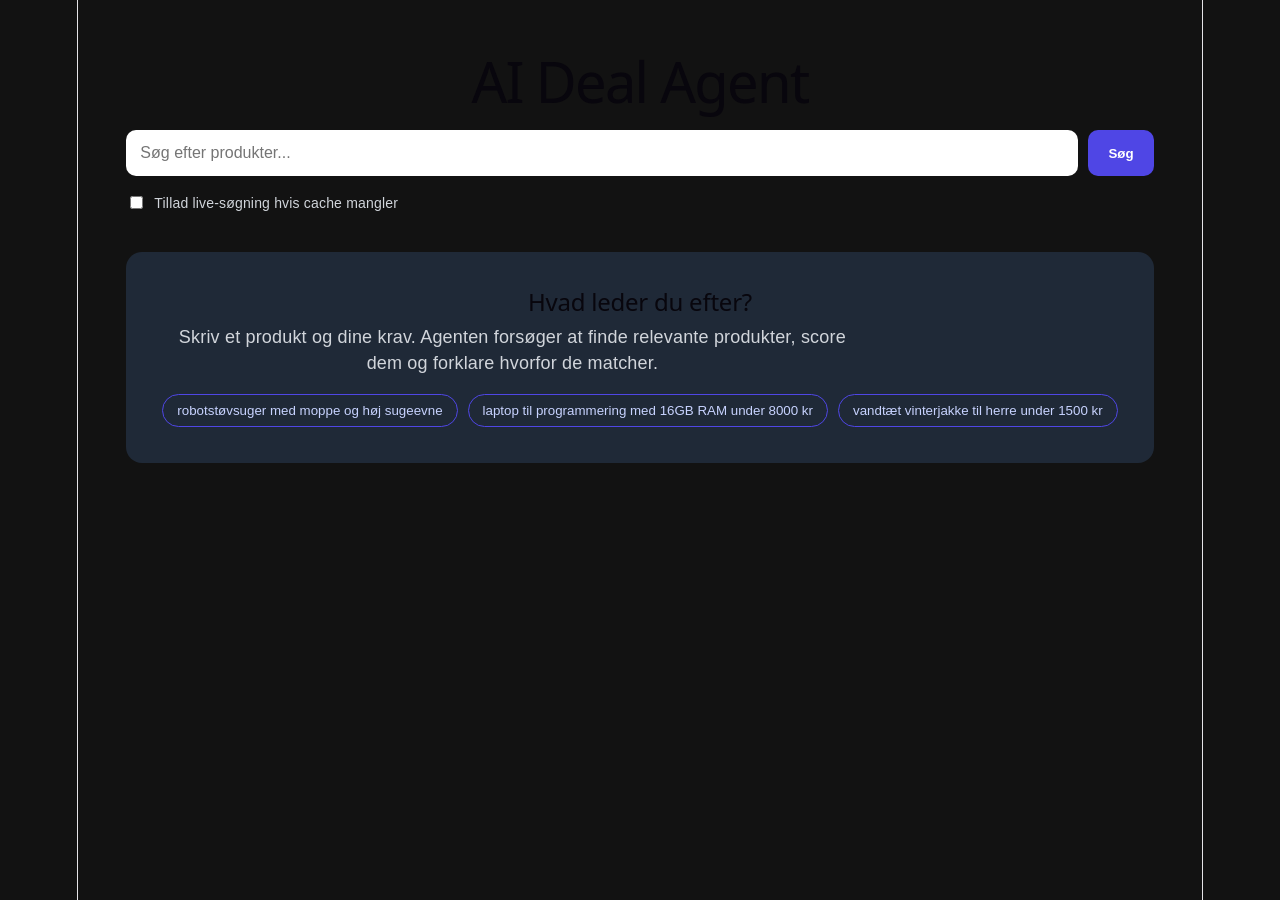
Test: App › shows FastAPI validation messages when the search fails
Step 1. Type "robotstøvsuger med moppe under 5000 kr" into the field with placeholder "Søg efter produkter..." → (602, 153), box top-left (126, 130), bottom-right (1078, 176)
Then press Enter
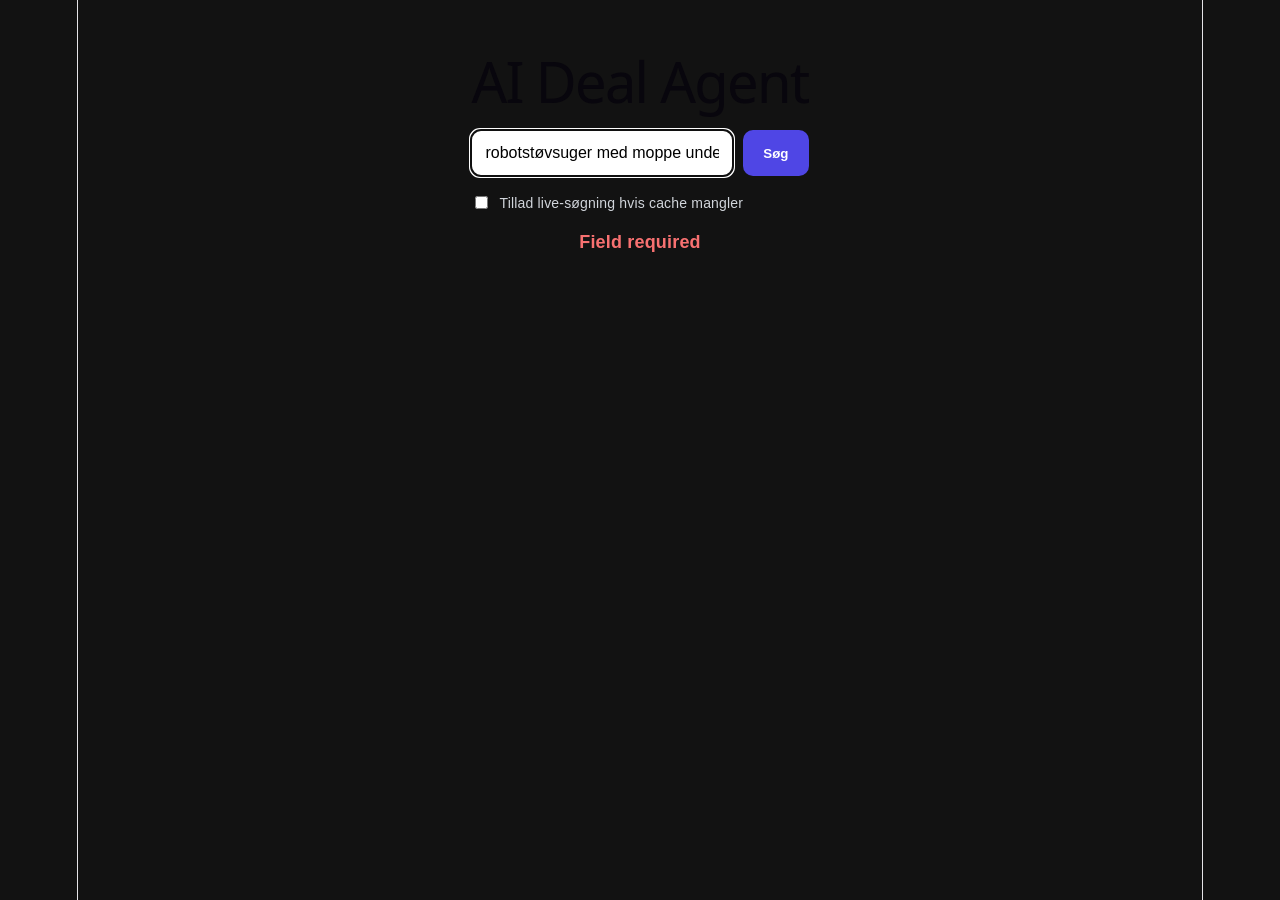
Result: the text "Field required" is shown at top-left (579, 232), bottom-right (701, 252)
